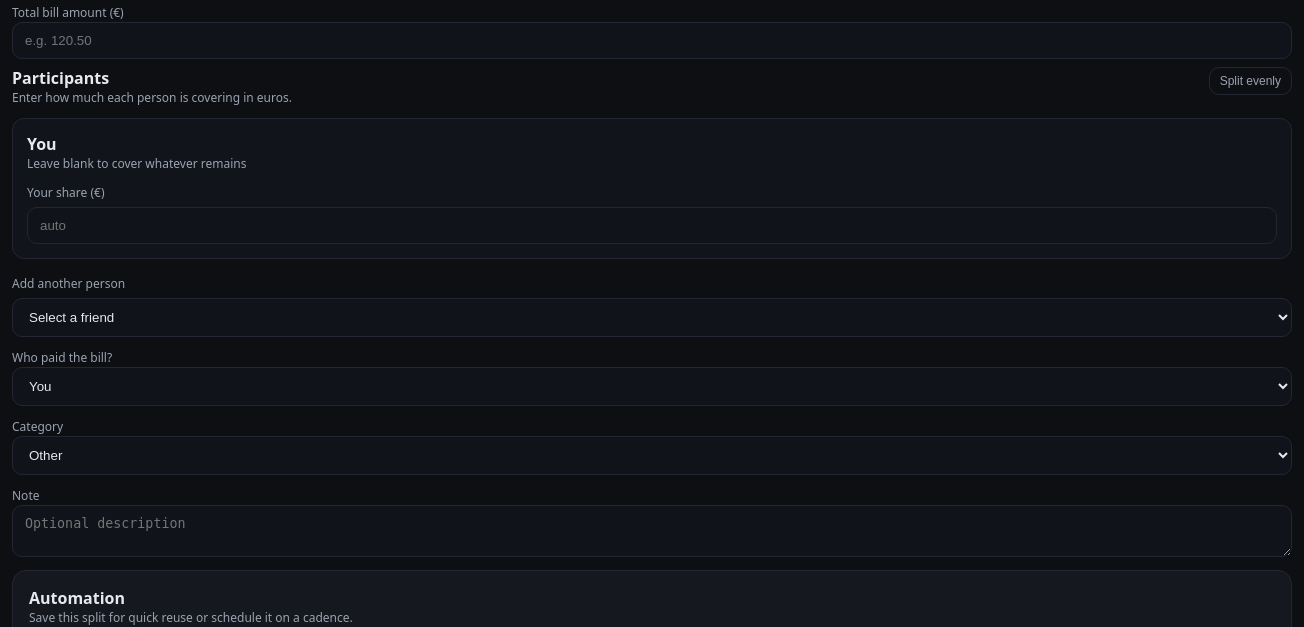
SplitForm › Adding participants › can add a friend to participants
This screenshot has width=1304, height=627.
Select a friend
Step 1. Select "Alice" in the dropdown labelled "Add another person" → (652,318), box left=12, top=298, right=1292, bottom=337
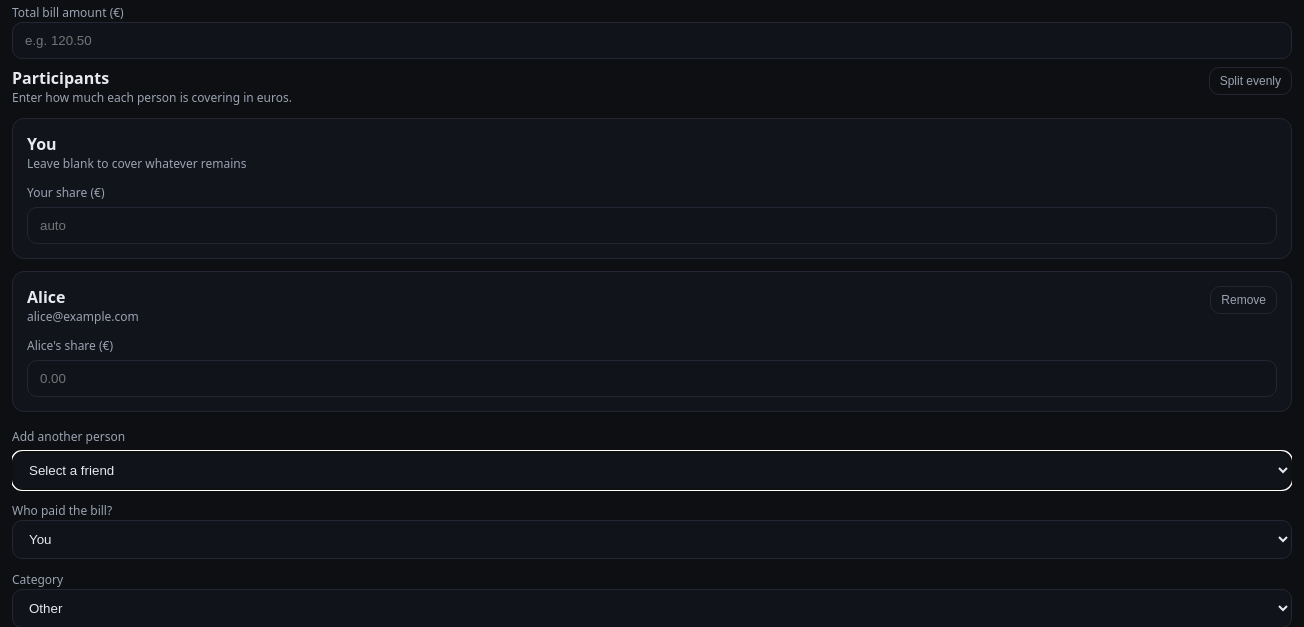
Now the text "Alice's share (€)" is shown, box left=27, top=337, right=113, bottom=354
